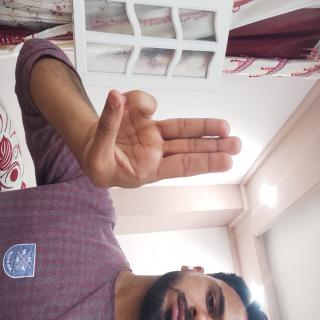THA: (61, 98, 159, 320)
